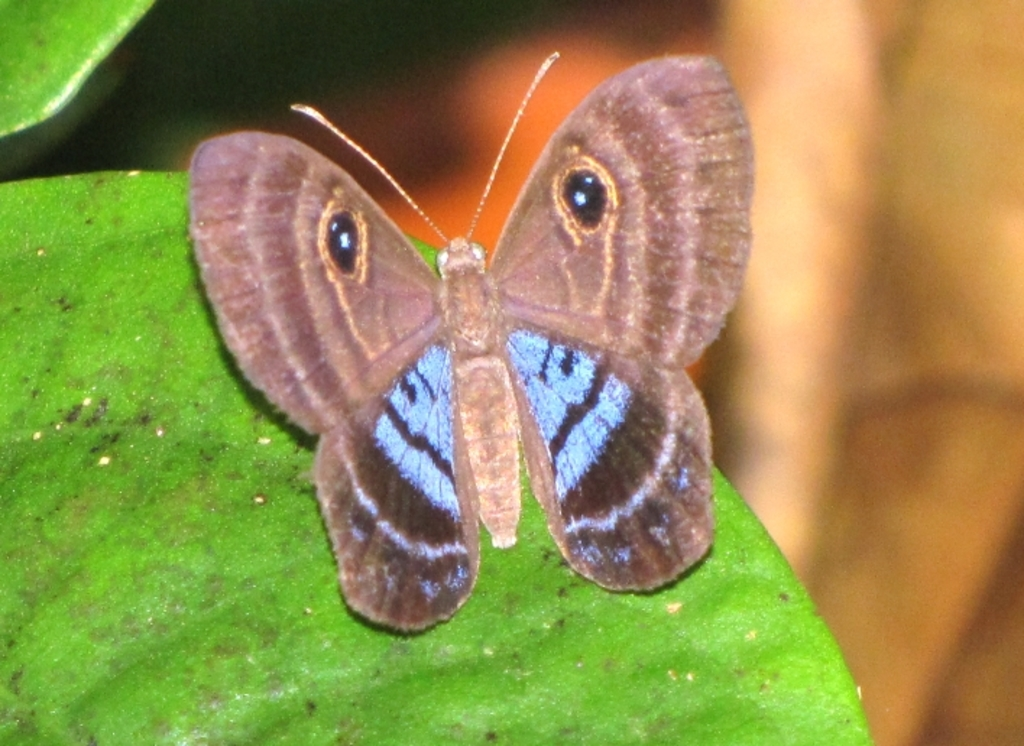Butterfly: (159, 78, 765, 637)
